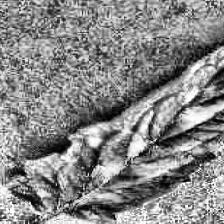leaf mold: (7, 28, 224, 224)
